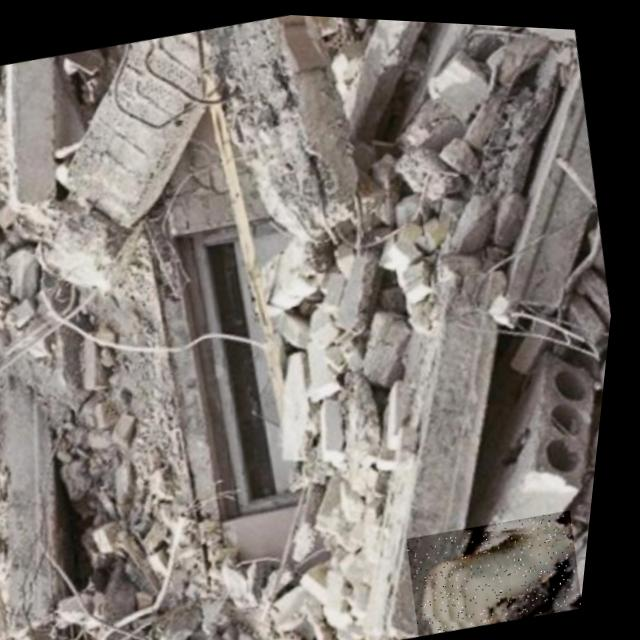Person in Rubble: (409, 496, 601, 637)
